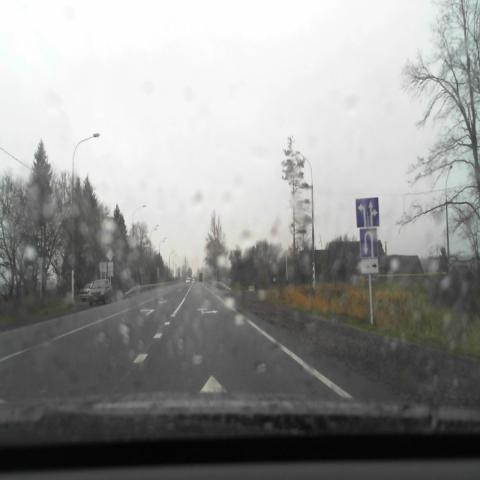5_15_2_2: (356, 198, 379, 227)
6_3_1: (360, 228, 377, 258)
8_1_3: (361, 260, 379, 273)
